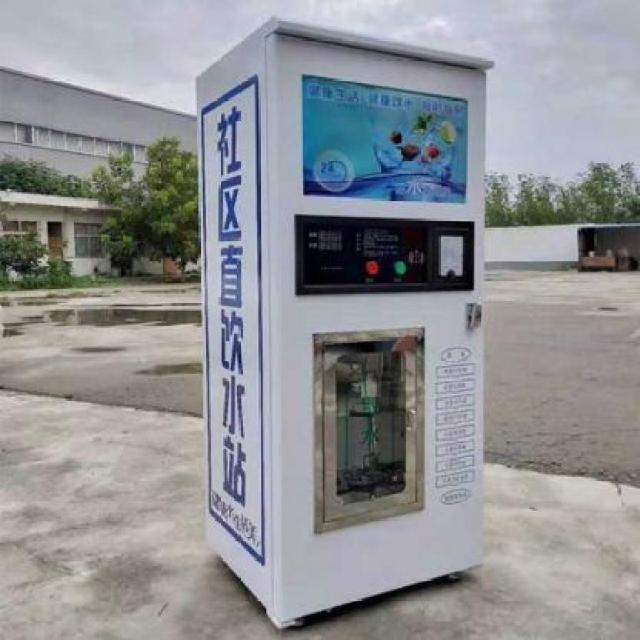cooler: (195, 16, 494, 630)
